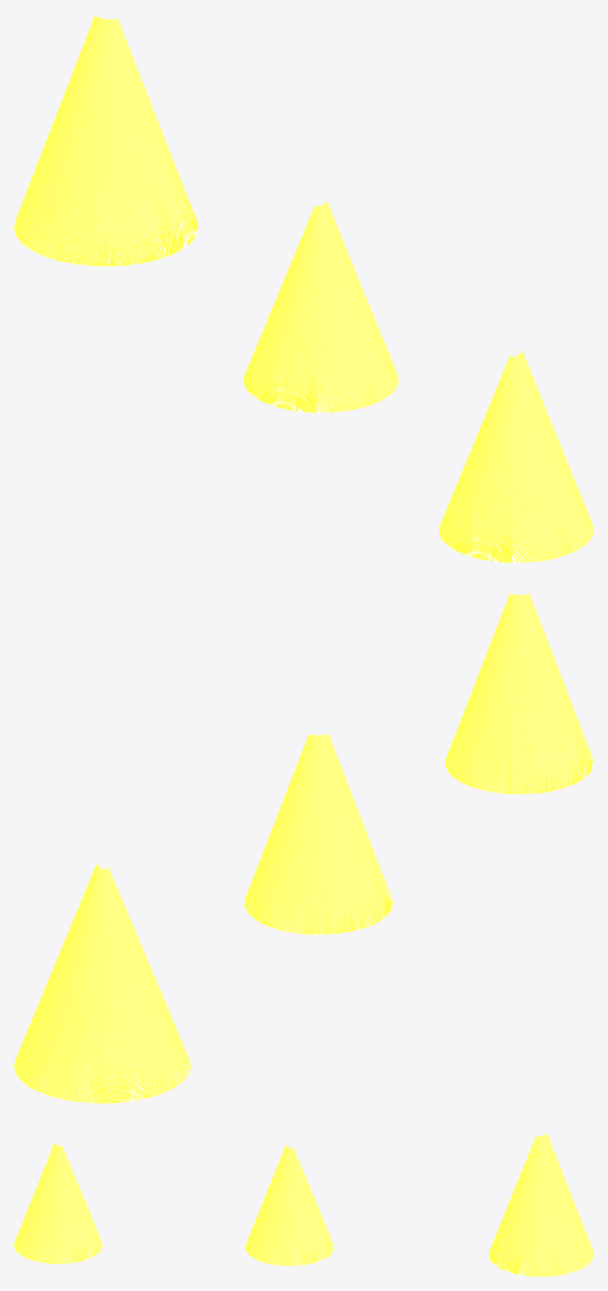
The model's file is traversant2.gltf.
3 renders of one model, top to bottom at view 1: azimuth 30°, elevation 25°; view 2: azimuth 150°, elevation 25°; view 3: azimuth 270°, elevation 25°, orthographic. The views are drawn at different scales.
Visible parts, largest first — view 1: LightLampadaire.004, LightLampadaire.003, LightLampadaire.001; view 2: LightLampadaire.004, LightLampadaire.001, LightLampadaire.003; view 3: LightLampadaire.004, LightLampadaire.003, LightLampadaire.001.
Boxes of the visible parts, x1=… form: LightLampadaire.004: x1=14, y1=16, x2=198, y2=266; LightLampadaire.003: x1=243, y1=200, x2=398, y2=412; LightLampadaire.001: x1=439, y1=350, x2=593, y2=562; LightLampadaire.004: x1=14, y1=862, x2=190, y2=1103; LightLampadaire.001: x1=445, y1=593, x2=593, y2=794; LightLampadaire.003: x1=244, y1=733, x2=392, y2=934; LightLampadaire.004: x1=489, y1=1133, x2=593, y2=1276; LightLampadaire.003: x1=245, y1=1145, x2=333, y2=1265; LightLampadaire.001: x1=14, y1=1143, x2=102, y2=1263.
Bounding box in the file's own units: 11.88 × 14.98 × 65.41.
1 material, 1 textured.
